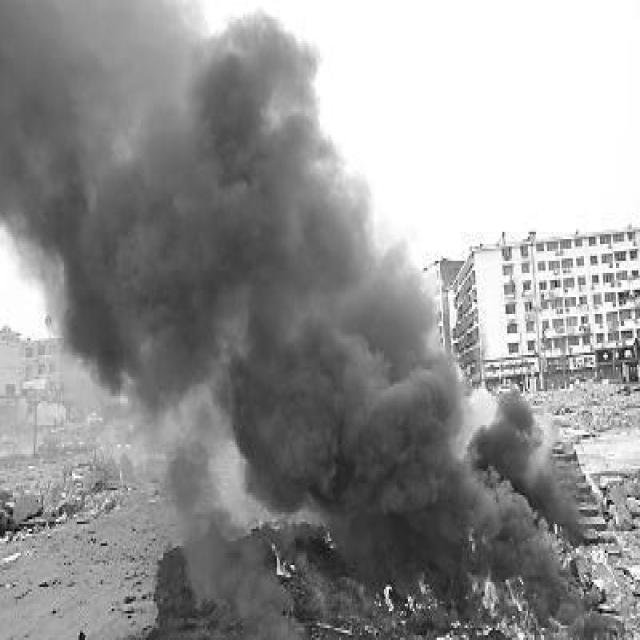smoke: (0, 1, 580, 640)
